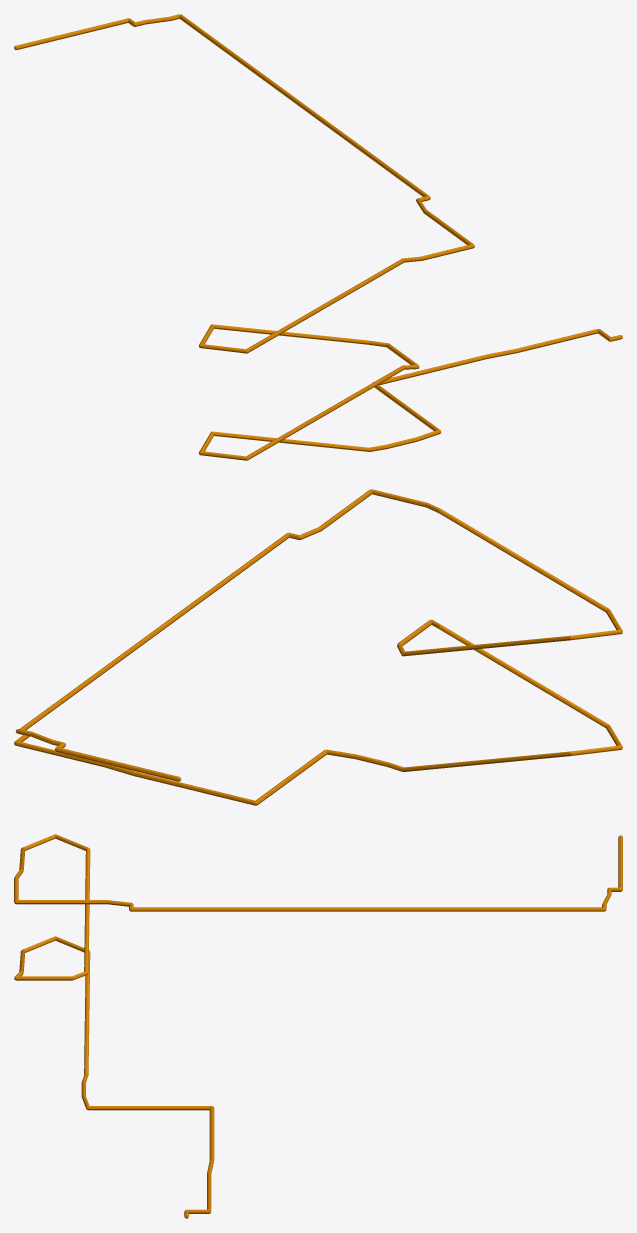
3 views of the same model, one above another, from view 1: azimuth 30°, elevation 25°; view 2: azimuth 150°, elevation 25°; view 3: azimuth 270°, elevation 25° (orthographic). The views are drawn at different scales.
Bounding box in the file's own units: 2406 × 1020 × 2704.
